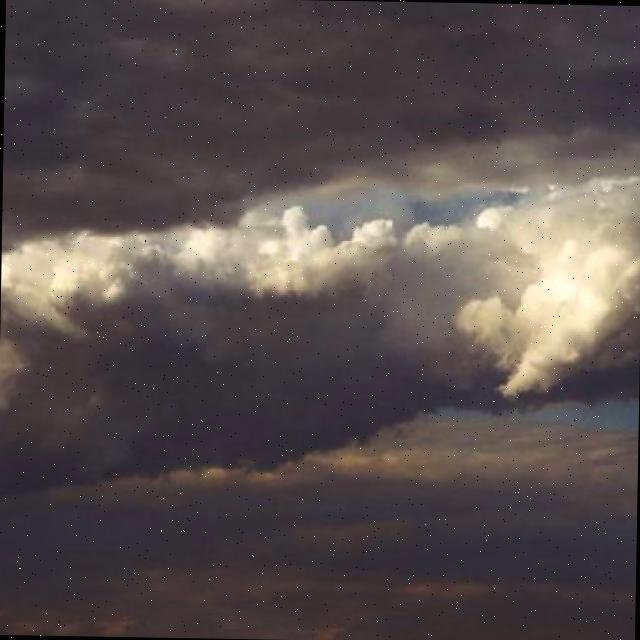Sc: (1, 153, 640, 533)
